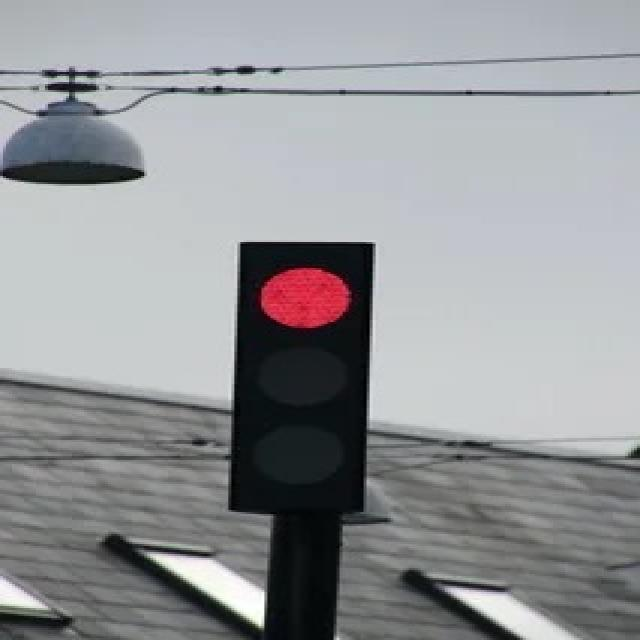kirmizi: (233, 242, 370, 514)
